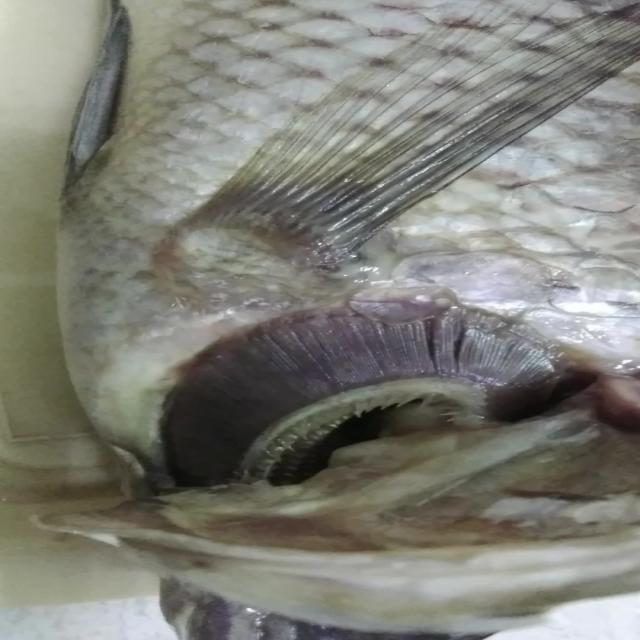Non-Fresh: (134, 300, 573, 482)
